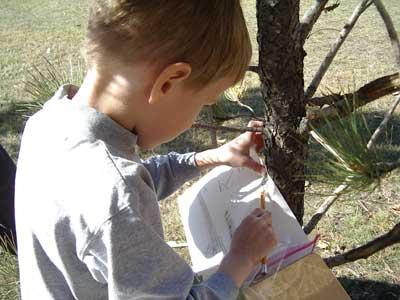person: (15, 3, 275, 299)
